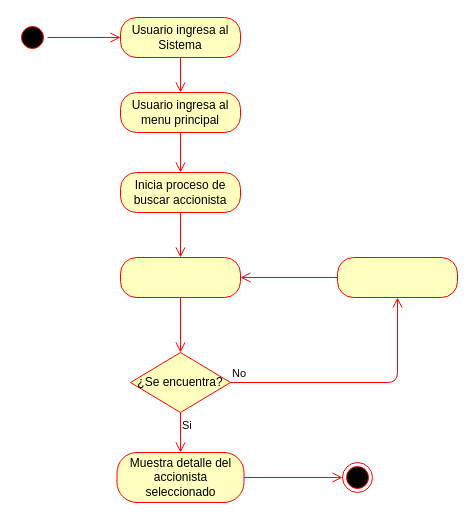
Some shapes in this 475 by 520 pixel diagram are drawn without their labels. The centre of each missing label's shape, as x and y in pixels:
"Devuelve a la busqueda" goes at point (397, 277).
"Ingresa Rut del Accionista" goes at point (180, 277).
